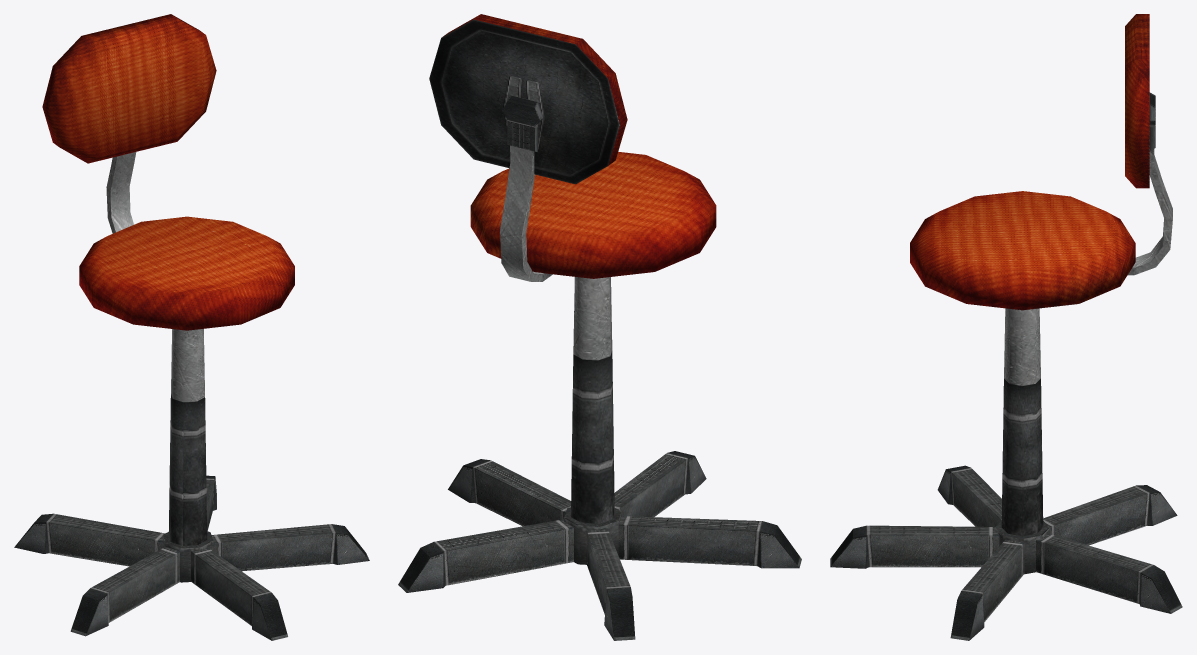
Rendered from M_Home_Garden_Work_Stool_01.fbx.
The picture shows the model from 3 angles, left to right: view 1: azimuth 30°, elevation 25°; view 2: azimuth 150°, elevation 25°; view 3: azimuth 270°, elevation 25°; orthographic projection. The views are drawn at different scales.
Parts seen in each view (by area): view 1: M_Home_Garden_Work_Stool_01; view 2: M_Home_Garden_Work_Stool_01; view 3: M_Home_Garden_Work_Stool_01.
Part boxes in pixels (x1,y1,x2,y2): M_Home_Garden_Work_Stool_01: [14, 14, 369, 640]; M_Home_Garden_Work_Stool_01: [398, 14, 801, 640]; M_Home_Garden_Work_Stool_01: [830, 14, 1182, 640].
Size of the model in its own units: 70.18 by 111 by 67.75.
